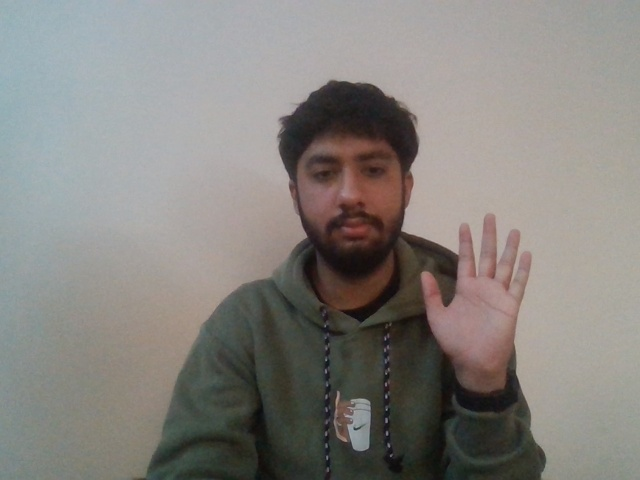Hello: (410, 210, 551, 372)
